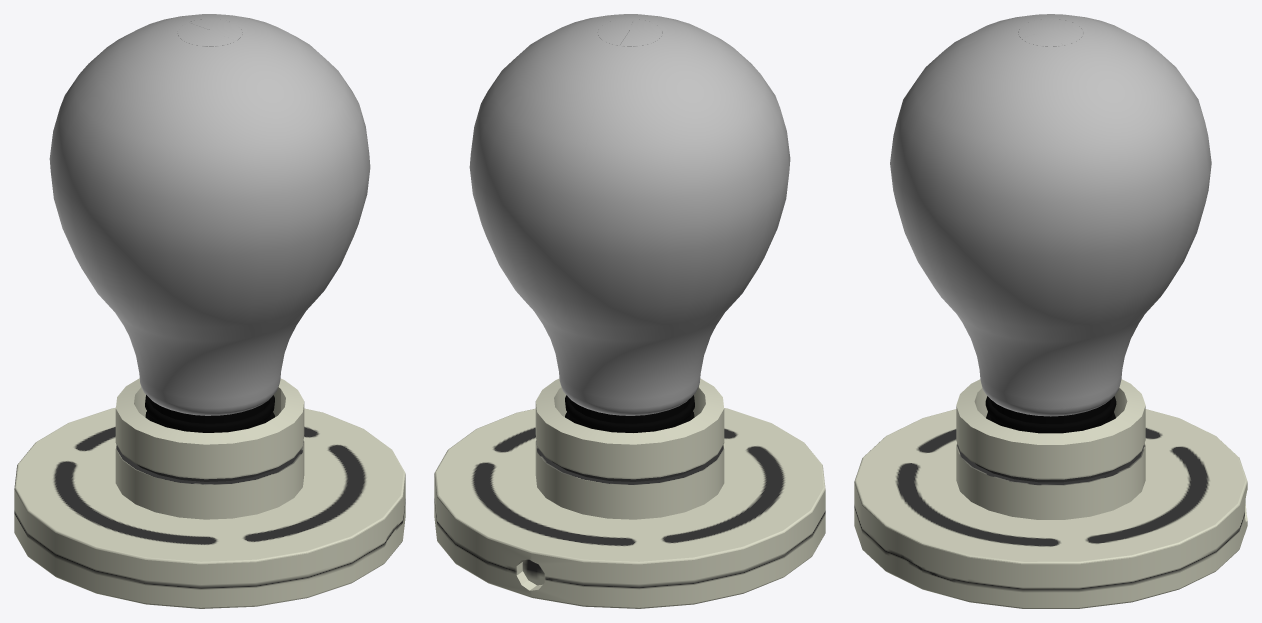
Rendered from Lightbulb (1).fbx.
The picture shows the model from 3 angles, left to right: view 1: azimuth 30°, elevation 25°; view 2: azimuth 150°, elevation 25°; view 3: azimuth 270°, elevation 25°; orthographic projection.
Visible parts, largest first — view 1: Lightbulb__1_; view 2: Lightbulb__1_; view 3: Lightbulb__1_.
Boxes of the visible parts, x1,y1,x2,y2 form: Lightbulb__1_: (14, 14, 405, 608); Lightbulb__1_: (434, 14, 825, 608); Lightbulb__1_: (854, 14, 1247, 608).
Bounding box in the file's own units: 24.86 × 35.02 × 25.12.
Materials: 2 (2 with a texture image).
